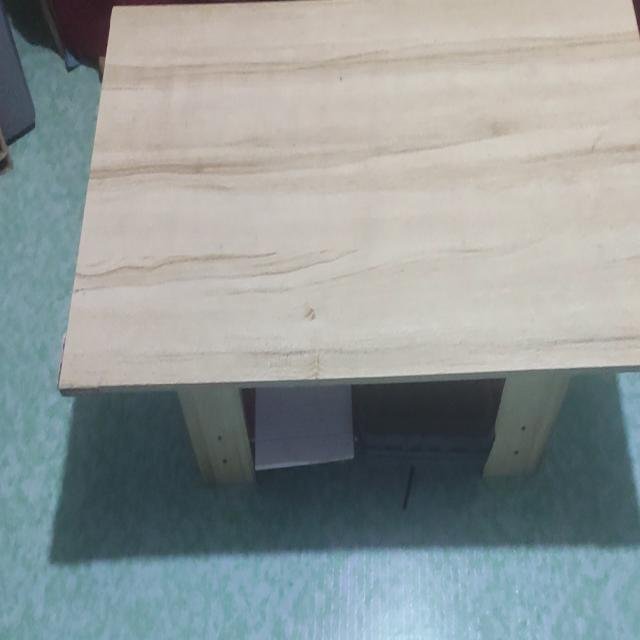table: (57, 0, 640, 504)
